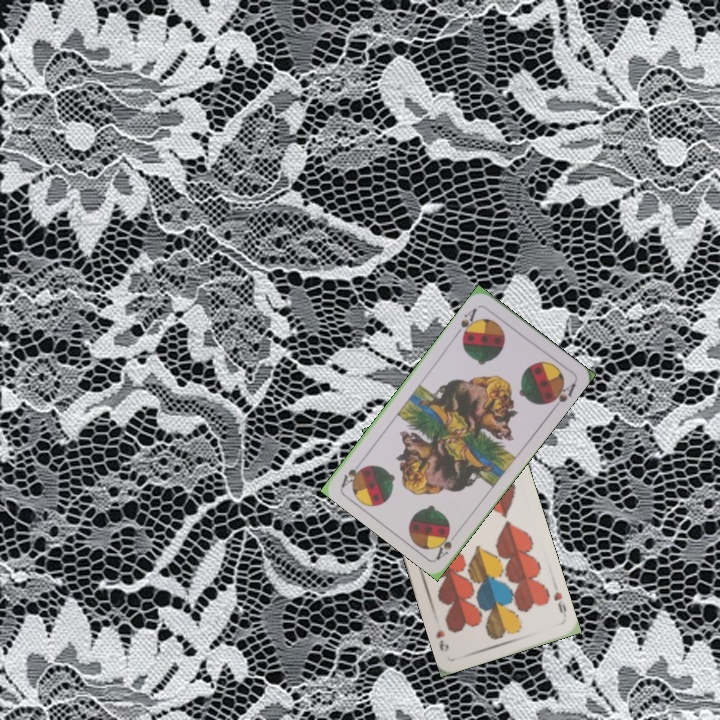H9: (549, 587, 569, 616)
SA: (432, 527, 462, 562), (452, 304, 480, 341)
